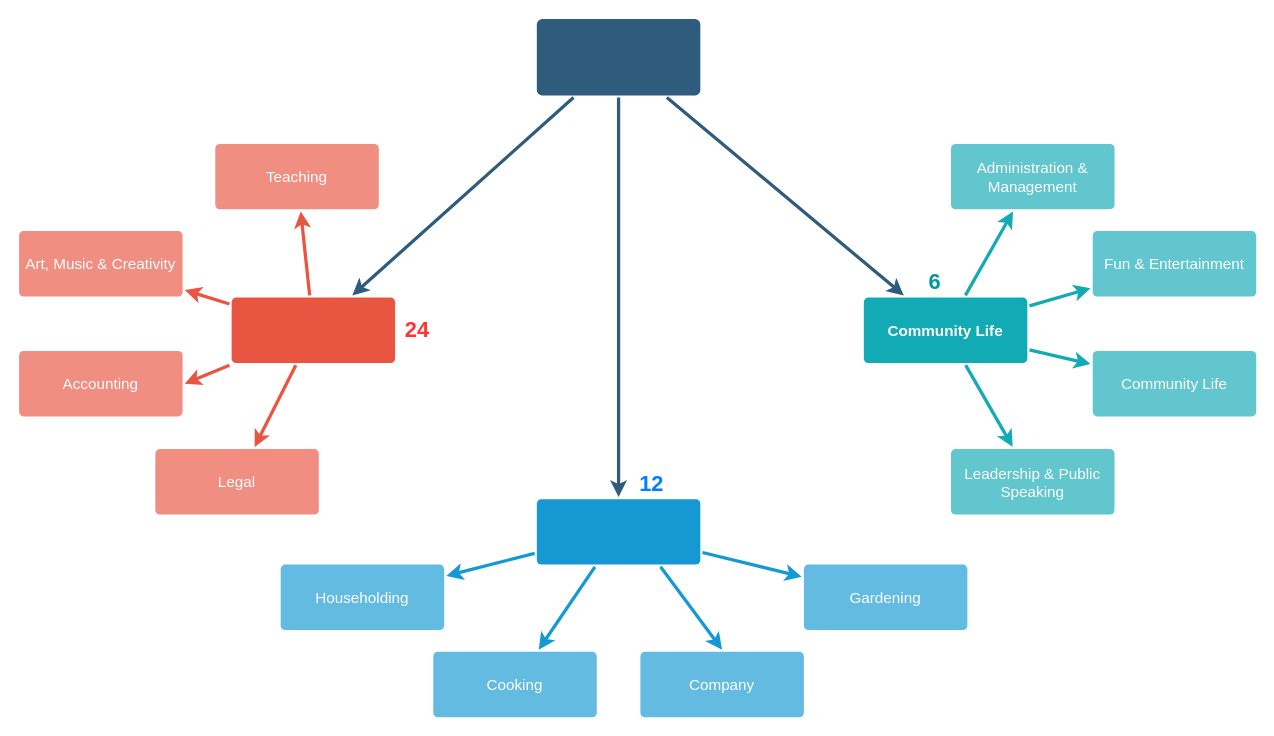
This 1274x736 diagram has some shape labels left out. The box of each missing label's shape, as (x1, y1, x2, y2) in pixels:
At Home: (536, 499, 700, 564)
Local Communities: (536, 19, 700, 95)
Professional: (231, 297, 395, 362)
